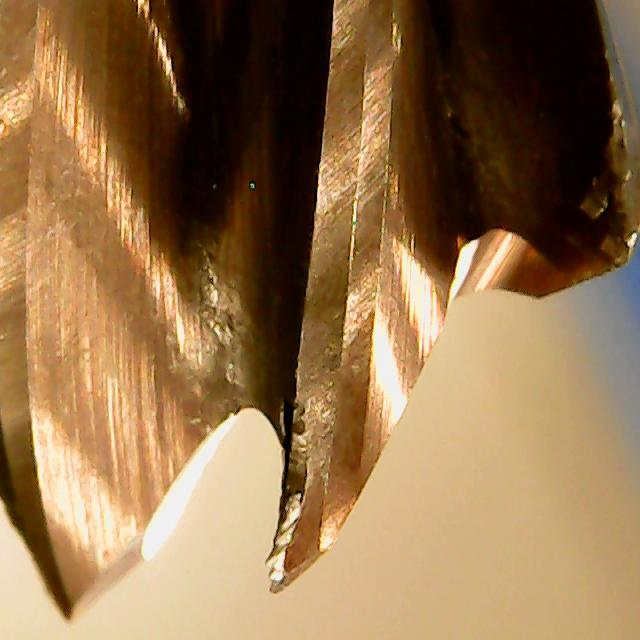Tool-wear-class-1: (246, 360, 393, 598)
